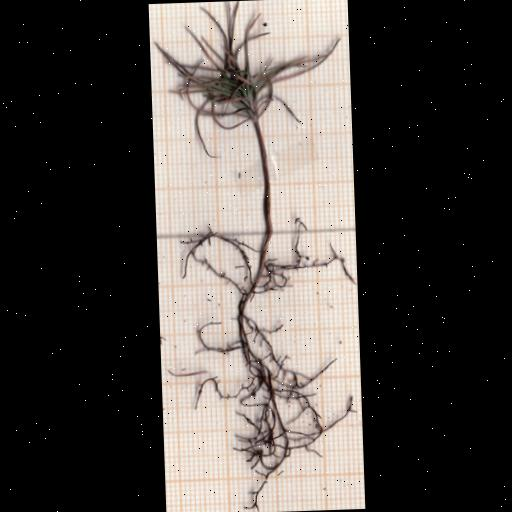flowerCedr: (156, 1, 337, 130)
rootCedr: (185, 229, 353, 512)
stemCedr: (252, 119, 272, 262)
